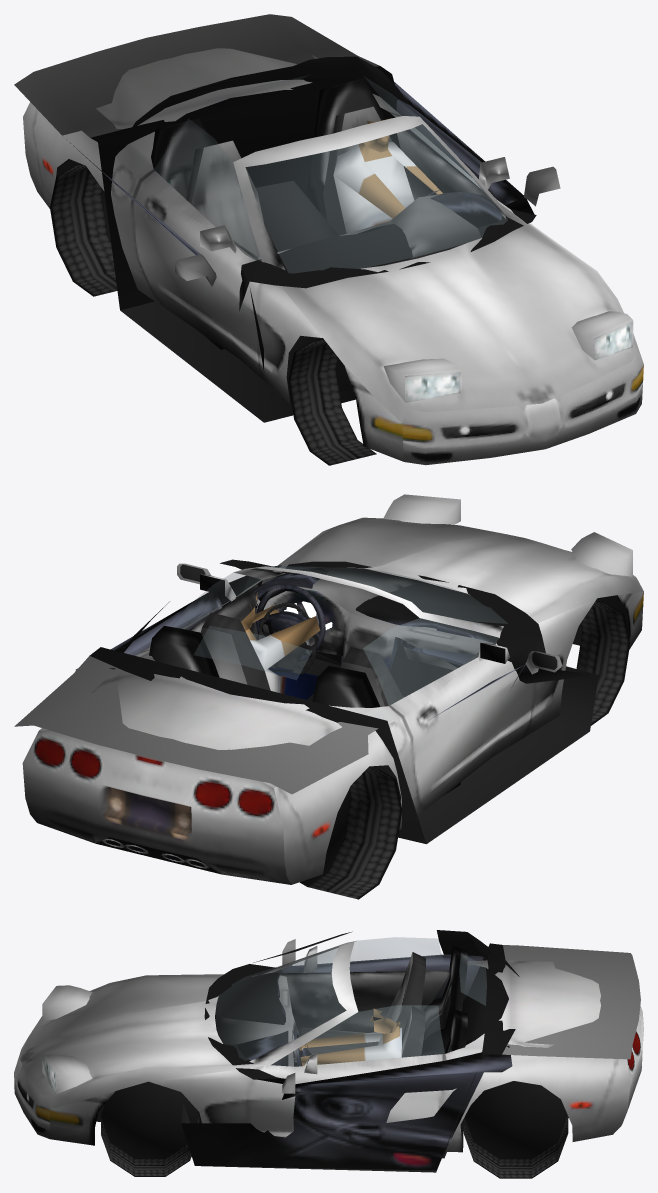
File: ccor.glb
The picture shows the model from 3 angles, top to bottom: view 1: azimuth 30°, elevation 25°; view 2: azimuth 150°, elevation 25°; view 3: azimuth 270°, elevation 25°; orthographic projection. The views are drawn at different scales.
Visible parts, largest first — view 1: body, :L :R :B rear body, interior, :F :L :R :B floor, :F :L :R console, driver, rear_right_whl, front_right_whl, top, lights, :F :L :R :B_TOP top, :B left seat (+7 smaller); view 2: body, :L :R :B rear body, interior, :F :L :R console, :F :L :R :B floor, top, rear_right_whl, driver, front_right_whl, lights, :B left seat, :F :L left door (+4 smaller); view 3: body, :F :L left door, :L :R :B rear body, interior, rear_left_whl, top, front_left_whl, :F :L :R console, driver, lights, :R :B right seat, :R :B right door (+4 smaller).
Part boxes in pixels (x1=…): body: x1=23, y1=48, x2=643, y2=465; :L :R :B rear body: x1=14, y1=14, x2=406, y2=310; interior: x1=185, y1=130, x2=489, y2=266; :F :L :R :B floor: x1=120, y1=180, x2=355, y2=422; :F :L :R console: x1=239, y1=191, x2=536, y2=311; driver: x1=323, y1=106, x2=442, y2=235; rear_right_whl: x1=50, y1=164, x2=117, y2=296; front_right_whl: x1=288, y1=340, x2=376, y2=465; top: x1=154, y1=75, x2=444, y2=217; lights: x1=383, y1=311, x2=633, y2=402; :F :L :R :B_TOP top: x1=128, y1=56, x2=410, y2=132; :B left seat: x1=306, y1=78, x2=408, y2=220; body: x1=22, y1=517, x2=643, y2=884; :L :R :B rear body: x1=14, y1=647, x2=426, y2=843; interior: x1=189, y1=568, x2=496, y2=706; :F :L :R console: x1=243, y1=561, x2=598, y2=683; :F :L :R :B floor: x1=280, y1=643, x2=598, y2=843; top: x1=170, y1=573, x2=445, y2=705; rear_right_whl: x1=300, y1=767, x2=402, y2=899; driver: x1=201, y1=602, x2=320, y2=699; front_right_whl: x1=576, y1=601, x2=630, y2=725; lights: x1=383, y1=494, x2=632, y2=576; :B left seat: x1=149, y1=625, x2=219, y2=677; :F :L left door: x1=75, y1=575, x2=248, y2=670; body: x1=14, y1=940, x2=643, y2=1152; :F :L left door: x1=181, y1=1046, x2=512, y2=1170; :L :R :B rear body: x1=436, y1=943, x2=640, y2=1171; interior: x1=215, y1=952, x2=449, y2=1066; rear_left_whl: x1=463, y1=1081, x2=568, y2=1178; top: x1=358, y1=937, x2=486, y2=1060; front_left_whl: x1=101, y1=1081, x2=199, y2=1176; :F :L :R console: x1=204, y1=964, x2=312, y2=1079; driver: x1=299, y1=1006, x2=425, y2=1066; lights: x1=42, y1=985, x2=92, y2=1093; :R :B right seat: x1=421, y1=946, x2=467, y2=1053; :R :B right door: x1=276, y1=954, x2=483, y2=1005.
Size of the model in its own units: 2.5 by 1.31 by 4.56.
10 materials, 7 textured.
